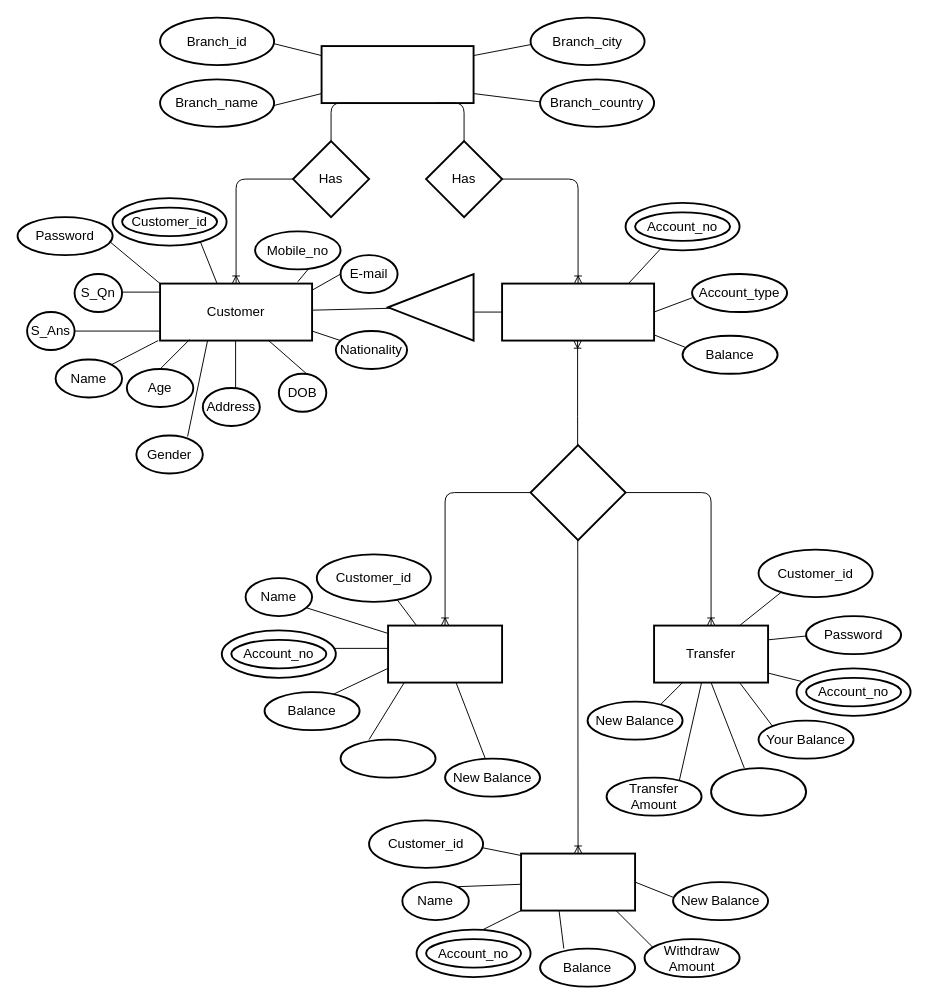
The diagram is 927 pixels wide and 1003 high, and some of its shapes have lost their labels. Here are the shapes that lost their labels. From the top down, the centre of each, then its label:
At [397,74]: "Bank Branch".
At [430,307]: "Belongs to".
At [578,311]: "Account".
At [577,492]: "Gets".
At [445,653]: "Deposit".
At [387,758]: "Deposite Amount".
At [758,791]: "Credit Account_no".
At [578,881]: "Withdraw".
